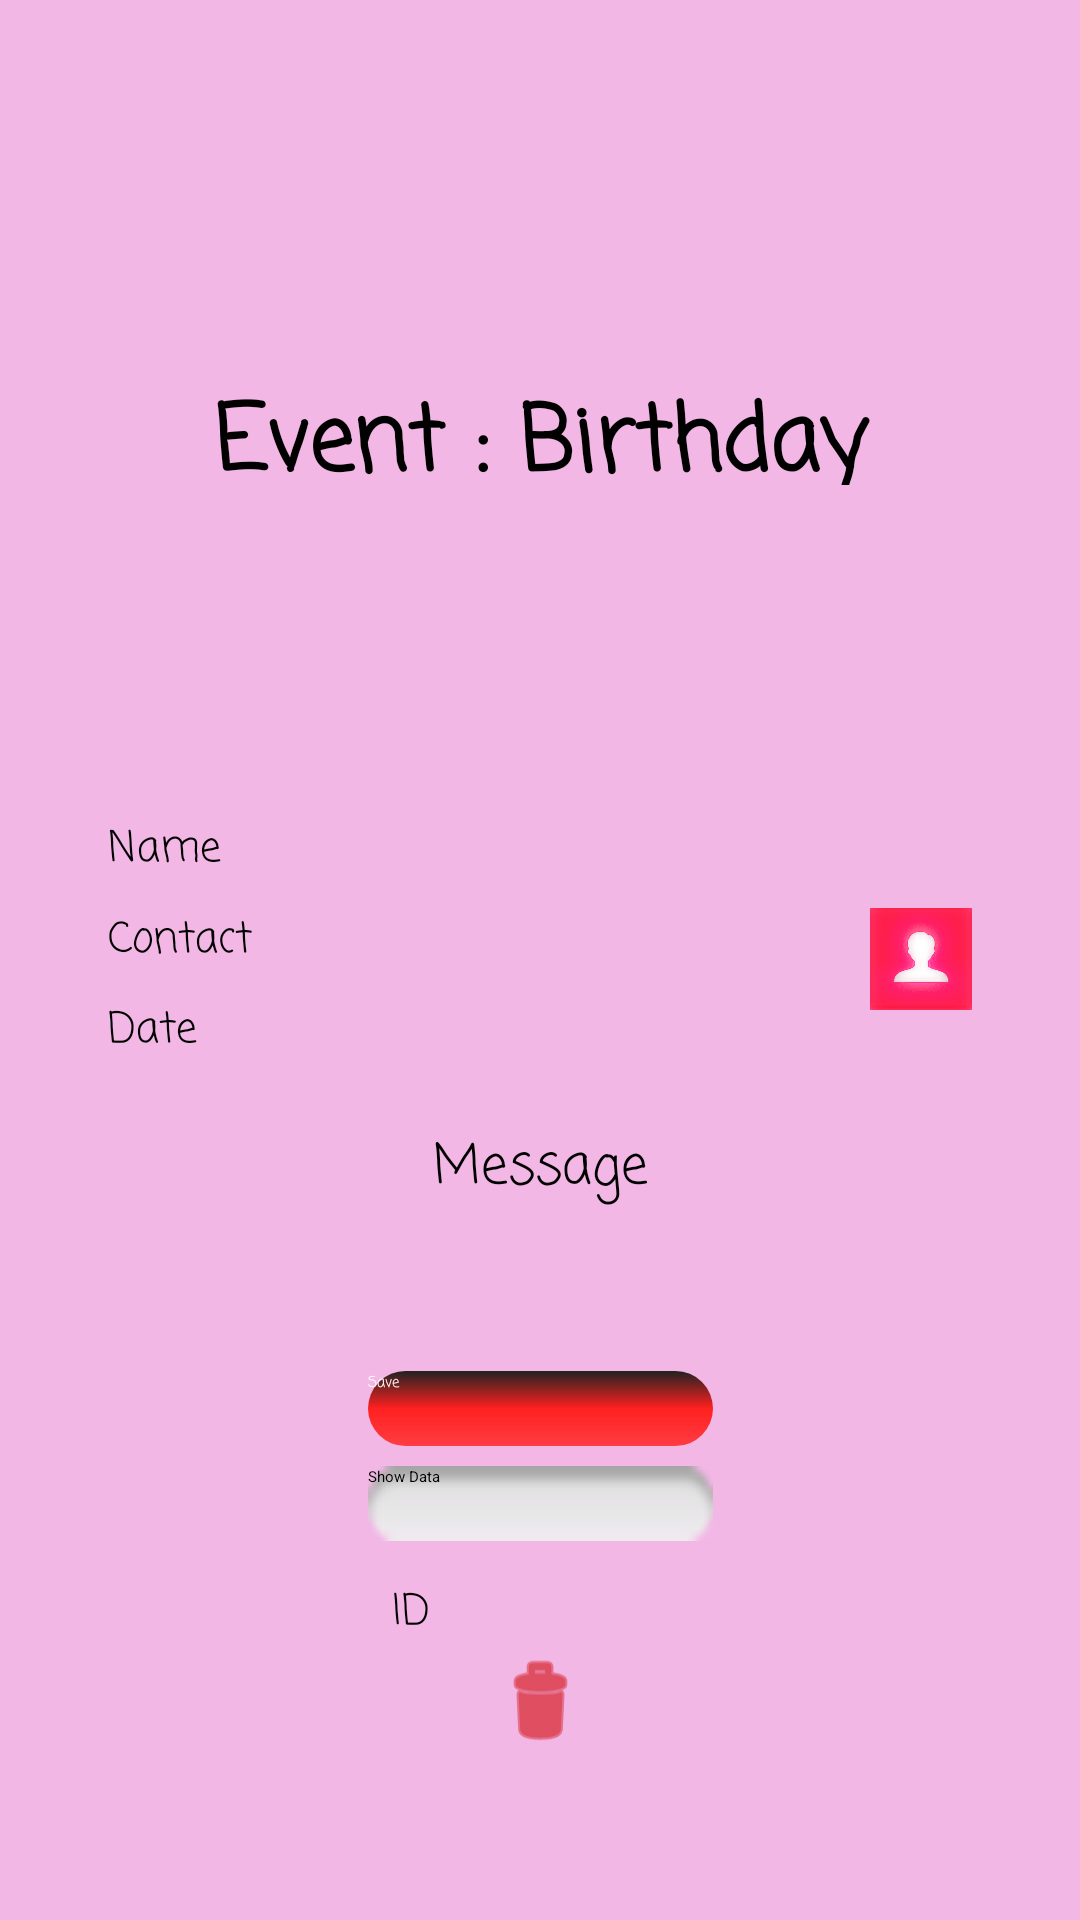

Point at icon controls on the screen. Image size 1080px x 1920px, points as (x=x, y=y).
delete: (x=540, y=1700)
phonebook: (x=921, y=959)
